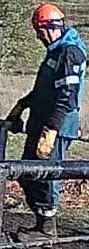gloves: (35, 124, 58, 161), (5, 102, 24, 135)
helmet: (31, 2, 66, 30)
vest: (26, 38, 87, 139)
